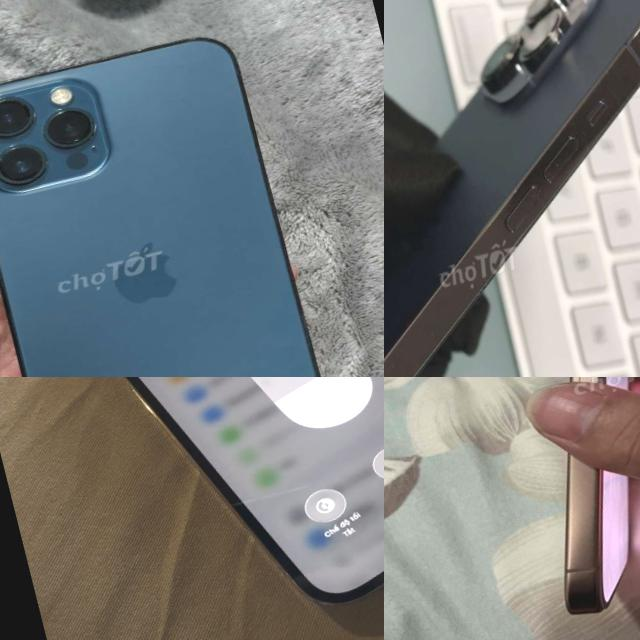gen_12_13: (0, 13, 353, 377), (13, 377, 384, 640)
gen_14: (384, 0, 640, 377)
gen_16: (445, 377, 640, 616)
